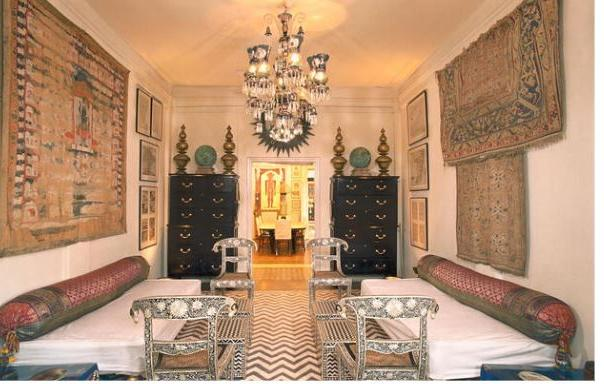chair: (129, 290, 255, 384), (327, 296, 439, 383), (212, 230, 264, 300), (310, 229, 360, 297), (273, 216, 299, 255)
light: (232, 6, 344, 135)
sofa: (4, 257, 210, 369), (363, 267, 579, 372)
table: (484, 359, 604, 384), (258, 216, 306, 257), (0, 364, 98, 382)
